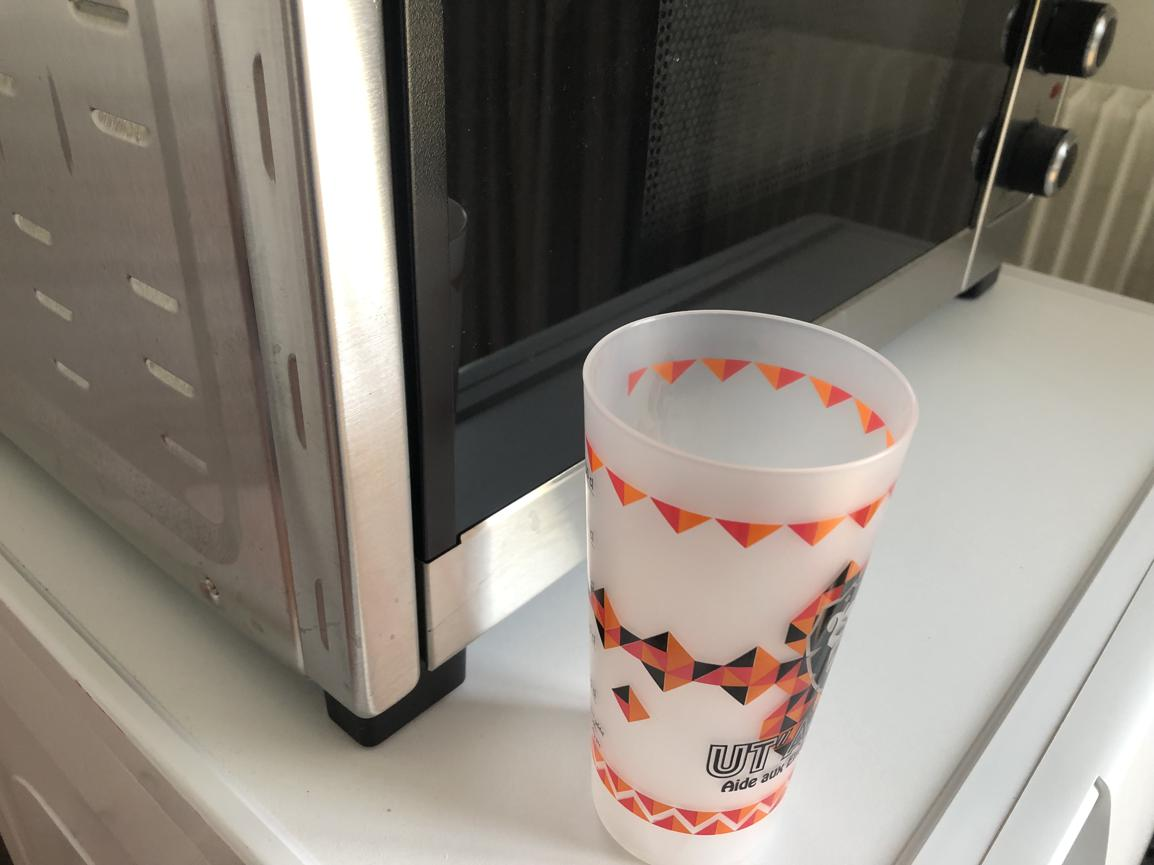ecocup: (581, 308, 918, 865)
